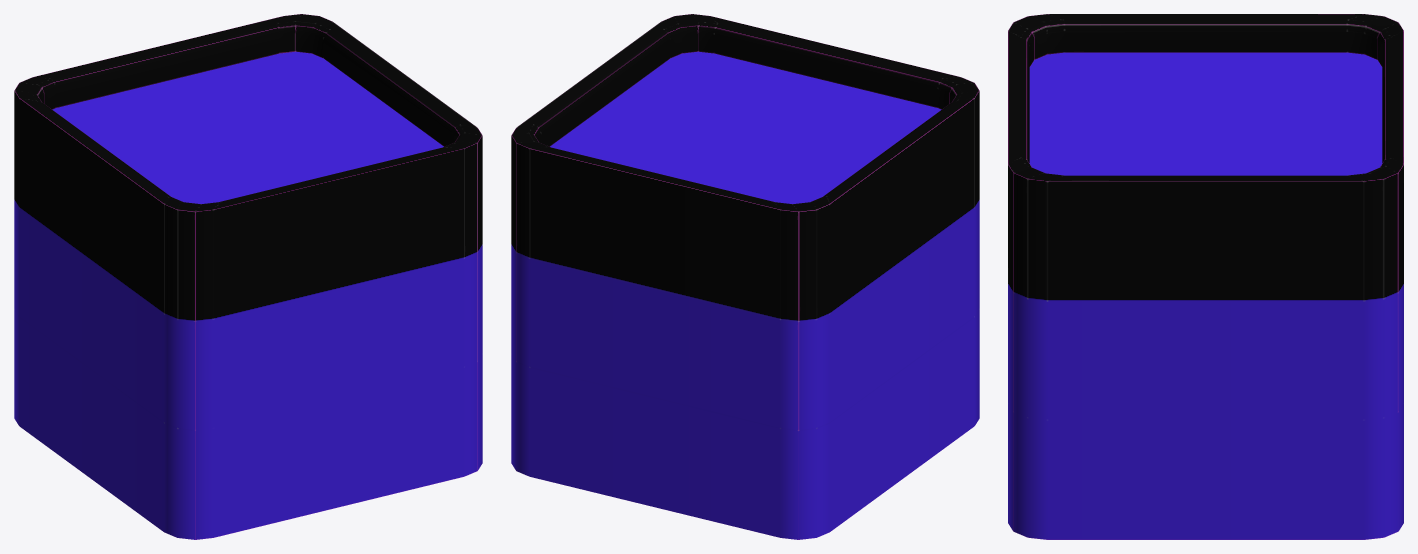
File: StageBlueLv2.fbx
3 renders of one model, left to right at view 1: azimuth 30°, elevation 25°; view 2: azimuth 150°, elevation 25°; view 3: azimuth 270°, elevation 25°, orthographic. The views are drawn at different scales.
Visible parts, largest first — view 1: pCube1; view 2: pCube1; view 3: pCube1.
Part boxes in pixels (bbox=[...]): pCube1: bbox=[14, 14, 482, 539]; pCube1: bbox=[511, 14, 979, 539]; pCube1: bbox=[1008, 14, 1403, 539].
Size of the model in its own units: 1 by 1 by 1.
